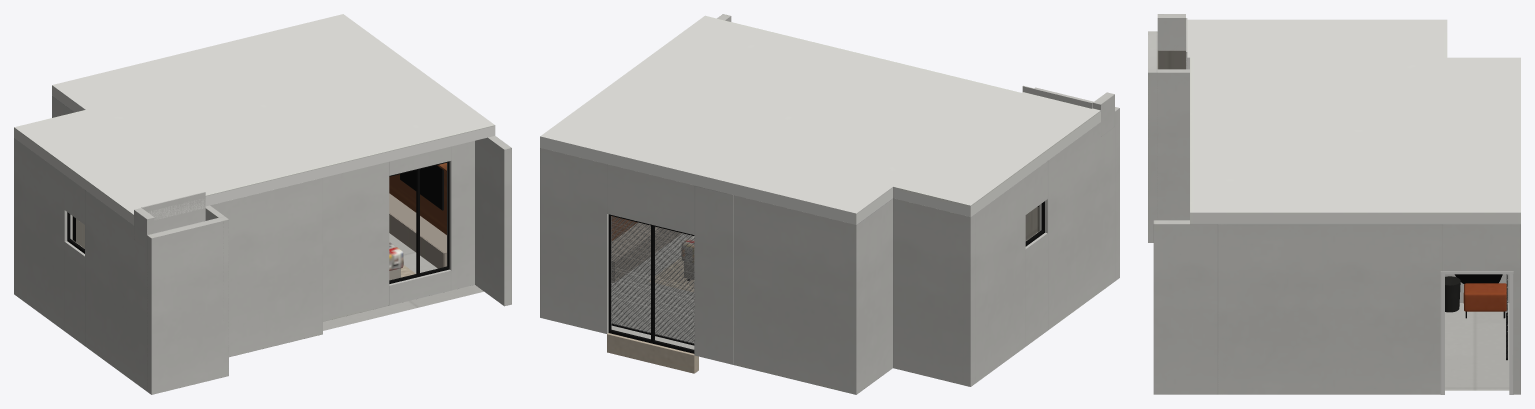
File: casa_suite.glb
The picture shows the model from 3 angles, left to right: view 1: azimuth 30°, elevation 25°; view 2: azimuth 150°, elevation 25°; view 3: azimuth 270°, elevation 25°; orthographic projection. The views are drawn at different scales.
Parts seen in each view (by area): view 1: ZONA_suite; view 2: ZONA_suite; view 3: ZONA_suite.
Boxes of the visible parts, x1,y1,x2,y2 form: ZONA_suite: (14, 14, 511, 394); ZONA_suite: (540, 14, 1119, 394); ZONA_suite: (1148, 14, 1520, 394).
Bounding box in the file's own units: 7.21 × 3.59 × 5.88.
Materials: 1 (1 with a texture image).
